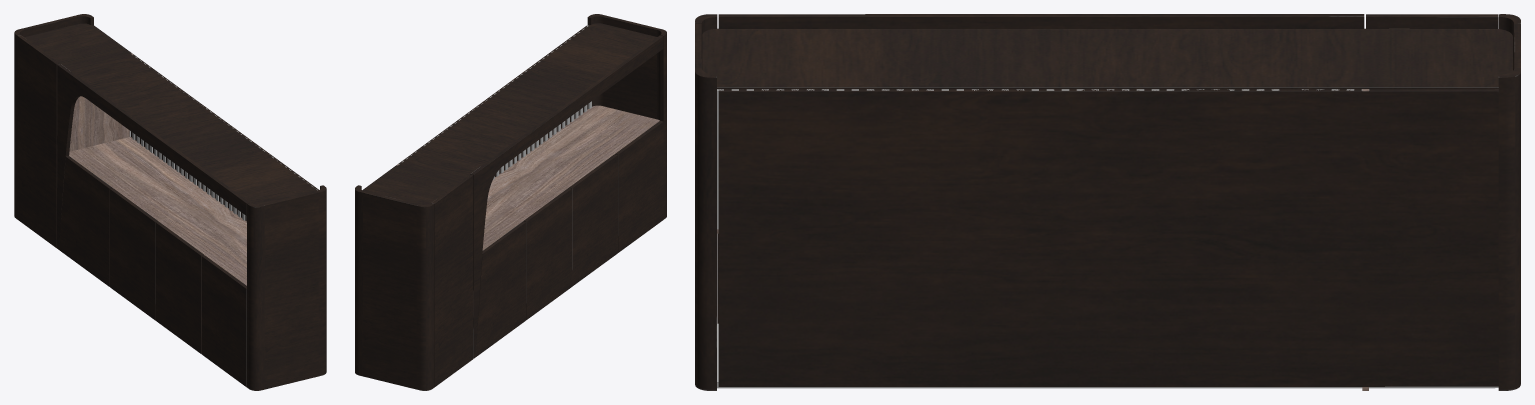
Rendered from seodolap3d.glb.
3 renders of one model, left to right at view 1: azimuth 30°, elevation 25°; view 2: azimuth 150°, elevation 25°; view 3: azimuth 270°, elevation 25°, orthographic. The views are drawn at different scales.
Visible parts, largest first — view 1: ASSET_Joined; view 2: ASSET_Joined; view 3: ASSET_Joined.
Boxes of the visible parts, bbox=[...] form: ASSET_Joined: bbox=[14, 14, 326, 390]; ASSET_Joined: bbox=[355, 14, 666, 390]; ASSET_Joined: bbox=[695, 14, 1520, 390].
Bounding box in the file's own units: 0.4021 × 0.9215 × 2.2.
Materials: 1 (1 with a texture image).
